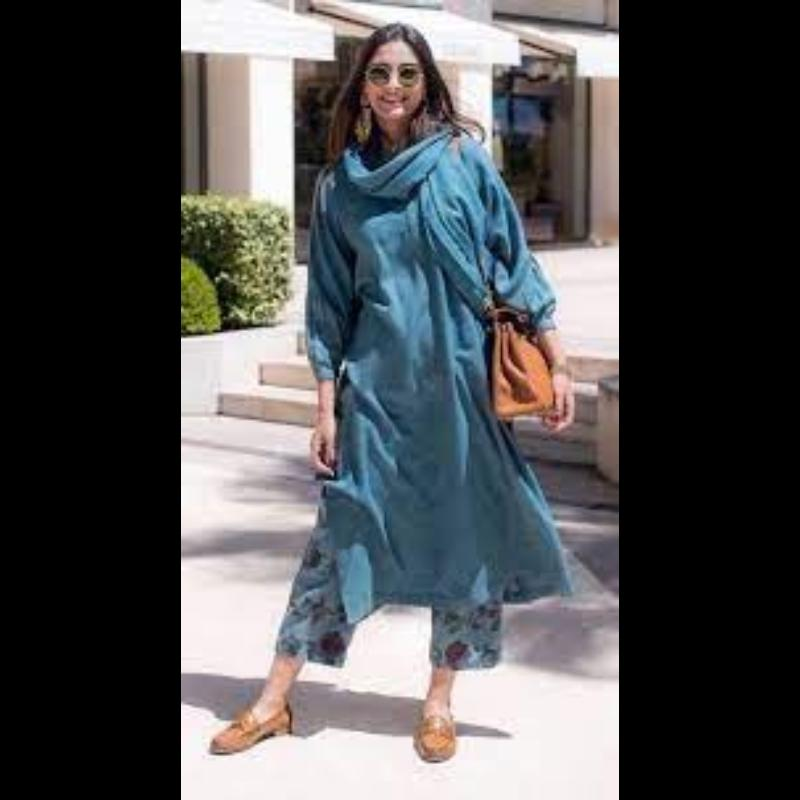Churidaar: (240, 144, 586, 704)
